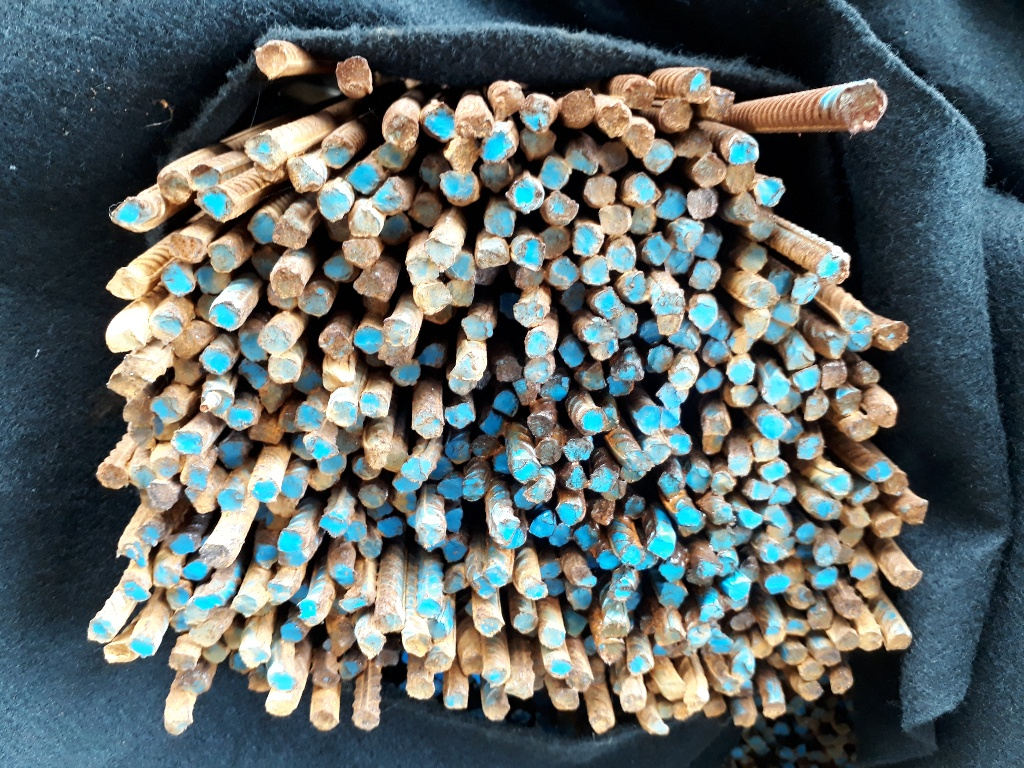dipstick: (836, 80, 884, 131), (104, 318, 146, 351), (338, 56, 373, 95), (255, 43, 292, 79), (558, 91, 594, 127), (488, 82, 524, 117), (175, 322, 210, 357), (194, 188, 232, 219), (522, 95, 555, 130), (544, 190, 577, 225), (384, 111, 415, 148), (107, 269, 144, 300), (287, 159, 322, 191), (238, 322, 266, 361), (447, 138, 477, 173), (598, 104, 630, 136), (598, 140, 630, 172), (538, 158, 570, 190), (422, 105, 455, 136), (681, 71, 711, 105), (343, 239, 380, 266), (416, 282, 448, 313), (275, 217, 306, 249), (247, 136, 279, 167), (672, 219, 702, 252), (688, 296, 718, 329), (477, 237, 510, 267), (158, 171, 188, 204), (108, 198, 146, 224), (355, 271, 389, 300), (457, 108, 492, 136), (441, 172, 477, 199), (522, 130, 555, 159), (513, 179, 542, 212), (481, 133, 514, 162), (568, 141, 598, 172), (492, 519, 524, 548), (259, 382, 291, 411), (585, 177, 618, 205), (348, 165, 381, 193), (322, 363, 355, 391), (601, 204, 631, 234), (320, 189, 350, 219), (272, 268, 302, 298), (624, 78, 653, 109), (693, 157, 724, 186), (572, 225, 603, 254), (237, 362, 268, 391), (875, 321, 907, 349), (375, 181, 403, 213), (163, 266, 195, 294), (320, 331, 353, 358), (151, 396, 185, 422), (726, 163, 755, 193), (663, 99, 691, 130), (688, 188, 716, 219), (349, 210, 380, 238), (323, 136, 351, 167), (150, 314, 182, 341), (202, 389, 234, 416), (746, 283, 779, 309), (754, 176, 783, 205), (657, 190, 686, 219), (669, 322, 699, 350), (297, 405, 327, 433), (727, 136, 758, 163), (741, 243, 768, 274), (211, 302, 242, 329), (218, 442, 249, 469), (268, 357, 300, 383), (170, 235, 203, 260), (631, 175, 659, 204), (149, 481, 177, 510), (820, 254, 847, 284), (548, 259, 578, 286), (486, 207, 513, 237), (409, 196, 439, 223), (817, 329, 844, 359), (462, 314, 492, 341), (202, 347, 232, 374), (513, 300, 544, 326), (209, 242, 235, 273), (627, 123, 652, 155), (516, 240, 544, 268), (293, 364, 321, 392), (481, 163, 510, 190), (659, 583, 688, 610), (124, 355, 153, 382), (187, 165, 221, 188), (543, 227, 569, 257), (408, 258, 438, 284), (307, 436, 339, 460), (109, 375, 142, 398), (526, 331, 553, 359), (382, 216, 410, 243), (693, 260, 719, 289), (607, 244, 636, 270), (763, 375, 789, 404), (457, 351, 483, 380), (413, 413, 442, 439), (360, 393, 389, 419), (261, 327, 290, 353), (784, 343, 815, 367), (702, 340, 729, 367), (685, 465, 712, 492), (835, 389, 863, 415), (355, 326, 383, 352), (328, 401, 356, 427), (366, 436, 388, 469), (708, 88, 733, 117), (822, 362, 847, 391), (446, 402, 475, 427), (174, 358, 199, 387), (186, 490, 215, 515), (164, 709, 193, 734), (250, 214, 274, 244), (172, 430, 202, 454), (249, 478, 279, 502), (102, 643, 136, 664), (745, 308, 768, 339), (582, 320, 613, 343), (177, 670, 208, 693), (849, 363, 881, 385), (427, 236, 454, 262), (451, 254, 478, 280), (803, 396, 830, 422), (645, 144, 670, 172), (793, 275, 818, 303), (645, 235, 670, 263), (594, 289, 619, 317), (869, 402, 897, 427), (252, 420, 280, 445), (97, 463, 125, 488), (330, 627, 355, 655), (769, 267, 793, 296), (843, 307, 872, 331), (901, 501, 930, 525), (198, 270, 227, 294), (375, 145, 405, 168), (574, 526, 600, 552), (529, 511, 555, 537), (509, 672, 535, 698), (795, 366, 820, 393), (700, 597, 725, 624), (541, 376, 568, 401), (403, 456, 430, 481), (418, 522, 443, 549), (648, 345, 672, 373), (677, 136, 710, 156), (655, 292, 685, 314), (515, 267, 545, 289), (584, 258, 610, 283), (496, 356, 522, 381), (447, 280, 474, 304), (300, 292, 327, 316), (621, 273, 644, 301), (590, 468, 618, 491), (848, 417, 877, 439), (872, 516, 901, 538), (405, 677, 435, 698), (728, 361, 753, 386), (697, 368, 722, 393), (793, 519, 819, 543), (824, 473, 851, 496), (118, 543, 145, 566), (358, 633, 385, 656), (632, 205, 654, 233), (420, 160, 442, 188), (391, 364, 420, 385), (404, 635, 433, 656), (734, 194, 758, 219), (813, 500, 843, 520), (791, 584, 815, 609), (738, 505, 763, 529), (706, 501, 731, 525), (515, 380, 539, 405), (227, 408, 257, 428), (183, 466, 208, 490), (537, 438, 560, 464), (217, 489, 243, 512), (319, 513, 345, 536), (384, 322, 411, 344), (128, 465, 155, 487), (612, 362, 643, 381), (380, 345, 411, 364), (666, 251, 694, 272), (616, 309, 637, 337), (359, 485, 387, 506), (760, 418, 789, 438), (766, 572, 790, 596), (699, 233, 722, 258), (765, 319, 790, 342), (559, 344, 584, 367), (480, 413, 505, 436), (418, 344, 443, 367), (233, 594, 258, 617), (687, 622, 709, 648), (638, 408, 660, 434), (677, 506, 703, 528), (524, 359, 550, 381), (330, 564, 356, 586), (753, 439, 780, 460), (153, 566, 180, 587), (624, 451, 652, 471), (171, 533, 199, 553), (313, 669, 341, 689), (375, 613, 403, 633), (342, 593, 370, 613), (477, 617, 505, 637), (471, 437, 502, 455), (494, 392, 518, 415), (280, 475, 304, 498), (300, 601, 323, 625), (557, 504, 586, 523), (563, 285, 585, 310), (592, 500, 614, 525), (566, 467, 588, 492), (761, 459, 787, 480), (512, 612, 538, 633), (354, 709, 380, 730), (266, 699, 298, 716), (868, 463, 895, 483), (438, 478, 465, 498), (277, 532, 304, 552), (424, 653, 451, 673), (415, 599, 442, 619), (885, 631, 913, 650), (728, 452, 751, 475), (657, 472, 680, 495), (650, 535, 673, 558), (88, 619, 111, 642), (799, 438, 823, 460), (815, 540, 839, 562), (671, 366, 693, 390), (711, 472, 733, 496), (445, 442, 469, 464), (154, 457, 178, 479), (202, 545, 226, 567), (845, 508, 870, 529), (807, 609, 832, 630), (610, 581, 635, 602), (515, 461, 540, 482), (326, 259, 351, 280), (130, 636, 155, 657), (267, 498, 296, 516), (731, 386, 757, 406), (124, 582, 150, 602), (895, 569, 922, 588), (169, 651, 196, 670), (270, 672, 297, 691), (765, 505, 786, 529), (600, 640, 624, 661), (529, 415, 553, 436), (447, 376, 475, 394), (310, 711, 338, 729), (732, 329, 752, 354), (539, 628, 564, 648), (280, 622, 305, 642), (248, 667, 268, 692), (188, 630, 219, 646), (815, 647, 841, 666), (483, 667, 509, 686), (656, 628, 685, 645), (387, 444, 404, 473), (746, 481, 773, 499), (830, 672, 852, 694), (660, 408, 682, 430), (444, 540, 466, 562), (669, 434, 692, 455), (566, 613, 587, 636), (848, 330, 872, 350), (709, 531, 733, 551), (432, 457, 452, 481), (446, 569, 466, 593), (785, 419, 804, 444), (731, 612, 756, 631), (646, 444, 671, 463), (659, 388, 685, 406), (484, 702, 510, 720), (659, 314, 680, 336), (765, 623, 786, 645), (710, 635, 732, 656), (685, 685, 707, 706), (569, 589, 591, 610), (530, 482, 552, 503), (464, 478, 485, 500), (268, 583, 290, 604), (885, 474, 908, 494), (851, 562, 878, 579), (183, 562, 210, 579), (241, 647, 268, 664), (836, 599, 860, 618), (258, 545, 277, 569), (568, 672, 593, 690), (546, 660, 571, 678), (268, 295, 298, 310), (377, 518, 402, 536), (591, 342, 617, 359), (552, 692, 578, 709), (355, 461, 381, 478), (203, 647, 229, 664), (716, 553, 736, 575), (630, 655, 652, 675), (620, 546, 642, 566), (549, 525, 571, 545), (462, 654, 482, 676), (445, 690, 467, 710), (750, 219, 773, 238), (640, 321, 659, 344), (776, 305, 799, 324), (704, 698, 727, 717), (539, 559, 562, 578), (166, 588, 189, 607), (278, 405, 293, 434), (777, 394, 801, 412), (763, 538, 779, 565), (785, 618, 809, 636), (783, 646, 807, 664), (799, 682, 823, 700), (621, 693, 645, 711), (393, 494, 417, 512), (732, 659, 752, 680), (193, 594, 221, 609), (473, 577, 493, 598), (138, 524, 160, 543), (169, 611, 188, 633), (703, 418, 729, 434), (696, 561, 722, 577), (801, 663, 824, 681), (752, 635, 770, 658), (573, 568, 596, 586), (857, 580, 881, 597), (660, 564, 684, 581), (590, 714, 614, 731), (836, 631, 856, 651), (225, 625, 241, 650), (446, 508, 462, 533), (665, 681, 686, 700), (711, 317, 729, 339), (859, 630, 881, 648), (624, 497, 642, 519), (360, 540, 382, 558), (728, 580, 751, 597), (523, 583, 546, 600), (340, 662, 363, 679), (184, 607, 210, 622), (674, 703, 698, 719), (430, 618, 449, 638), (602, 623, 628, 637), (394, 479, 420, 493), (775, 537, 794, 556), (488, 567, 507, 586), (603, 483, 624, 500), (718, 678, 740, 694), (598, 552, 620, 568), (257, 168, 284, 181), (346, 523, 365, 541), (763, 702, 784, 718), (703, 437, 723, 453), (733, 712, 755, 726), (786, 567, 804, 584), (546, 579, 564, 596), (231, 656, 248, 674), (771, 487, 791, 502), (728, 597, 748, 612), (647, 722, 669, 735), (637, 554, 656, 569), (380, 650, 398, 665), (367, 507, 391, 518), (495, 456, 509, 474), (658, 703, 674, 718)
